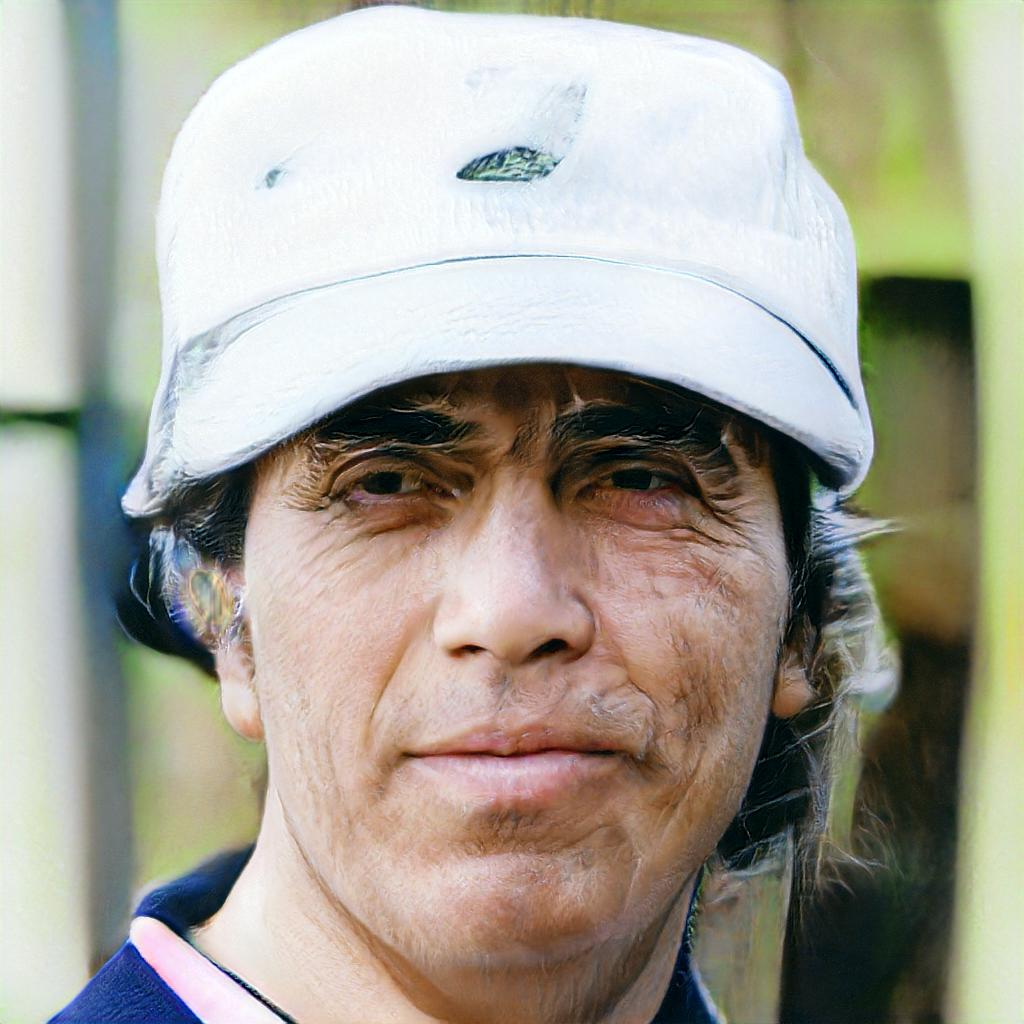face: (246, 353, 789, 960)
